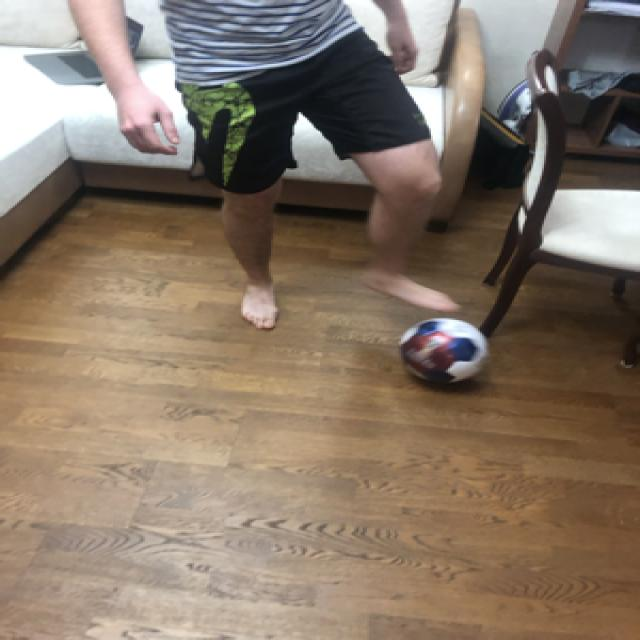soccer_ball: (394, 314, 490, 387)
